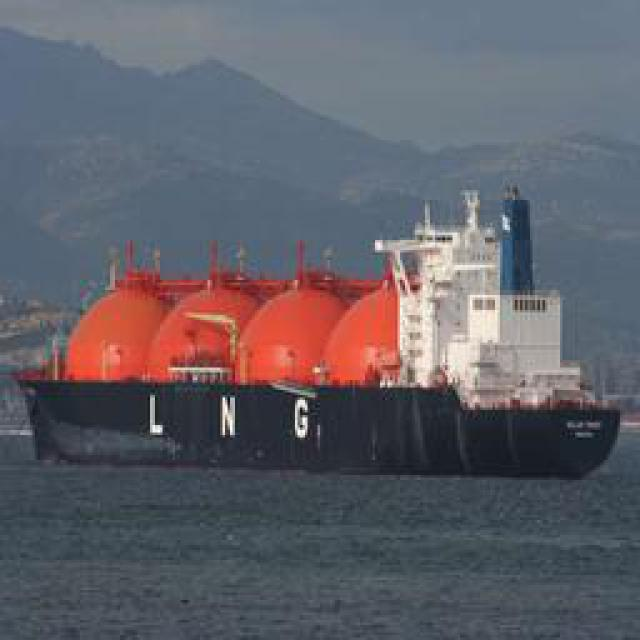Ship: (19, 204, 614, 477)
